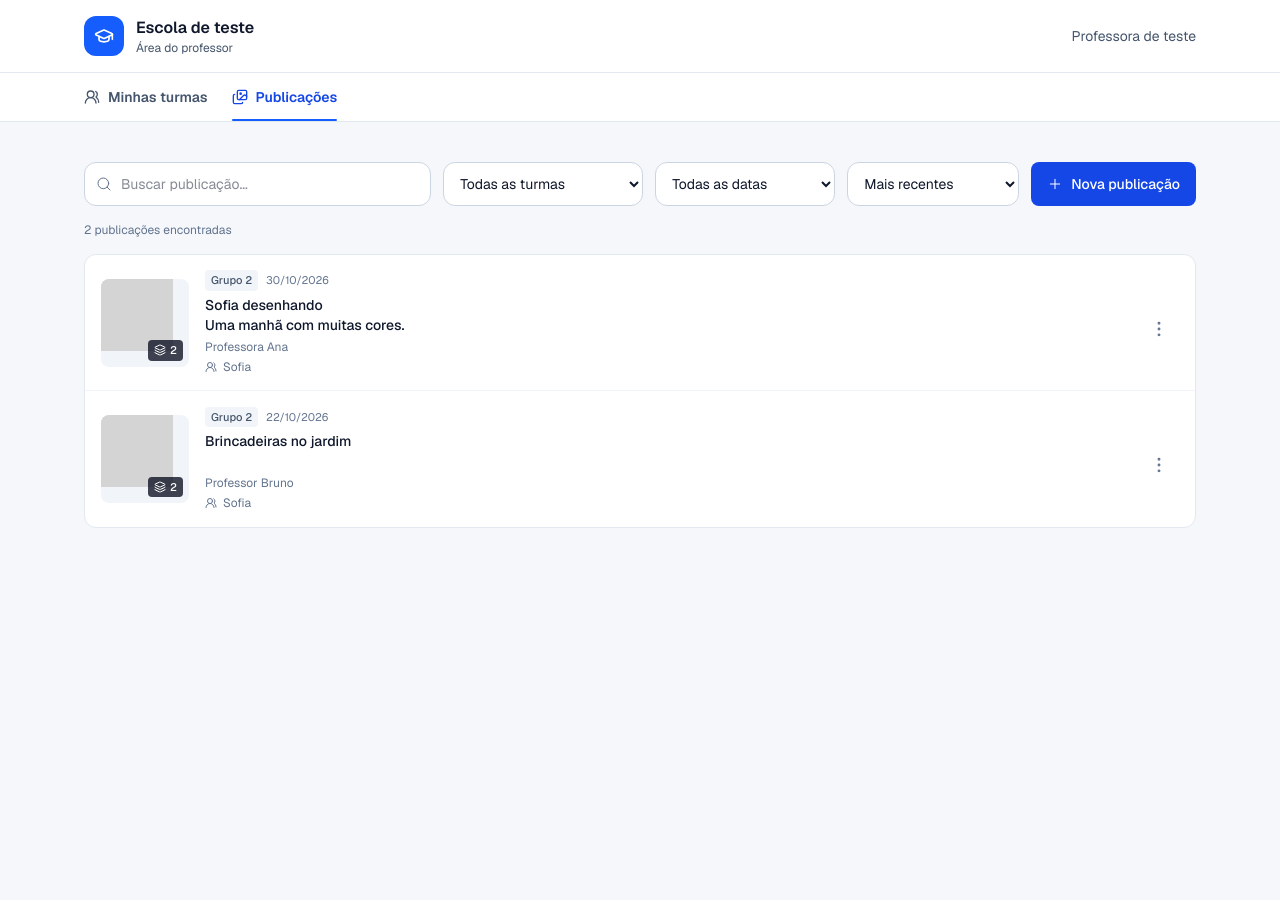
Scenario: workspace integrated with existing API contracts › keeps filters and sort after closing details, and opens the menu without fetching details
In the search field: (258, 184) top-left (84, 162), bottom-right (431, 206), type "Sofia"
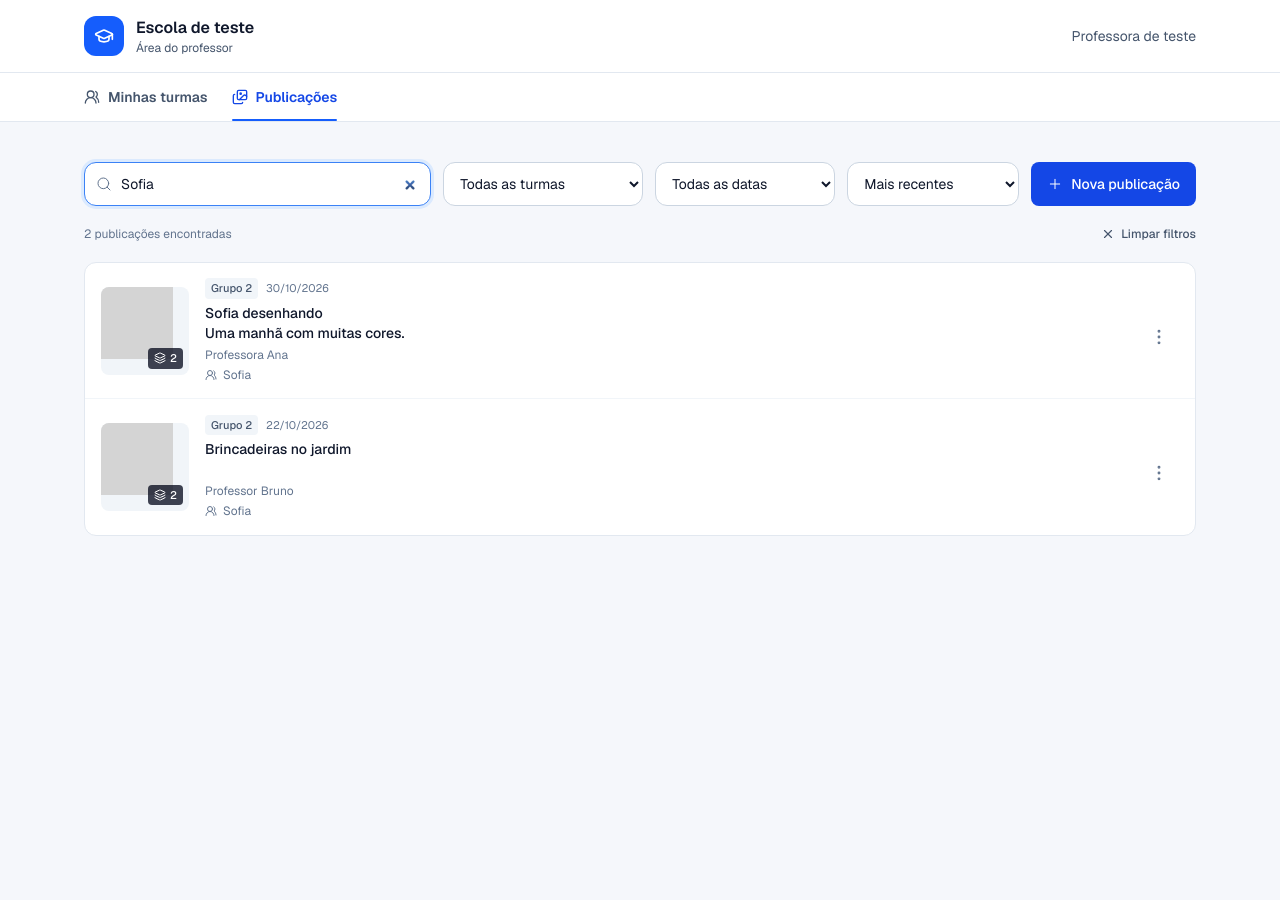
Select "Mais antigas" in the dropdown named "Ordenar publicações": (933, 184) top-left (847, 162), bottom-right (1019, 206)
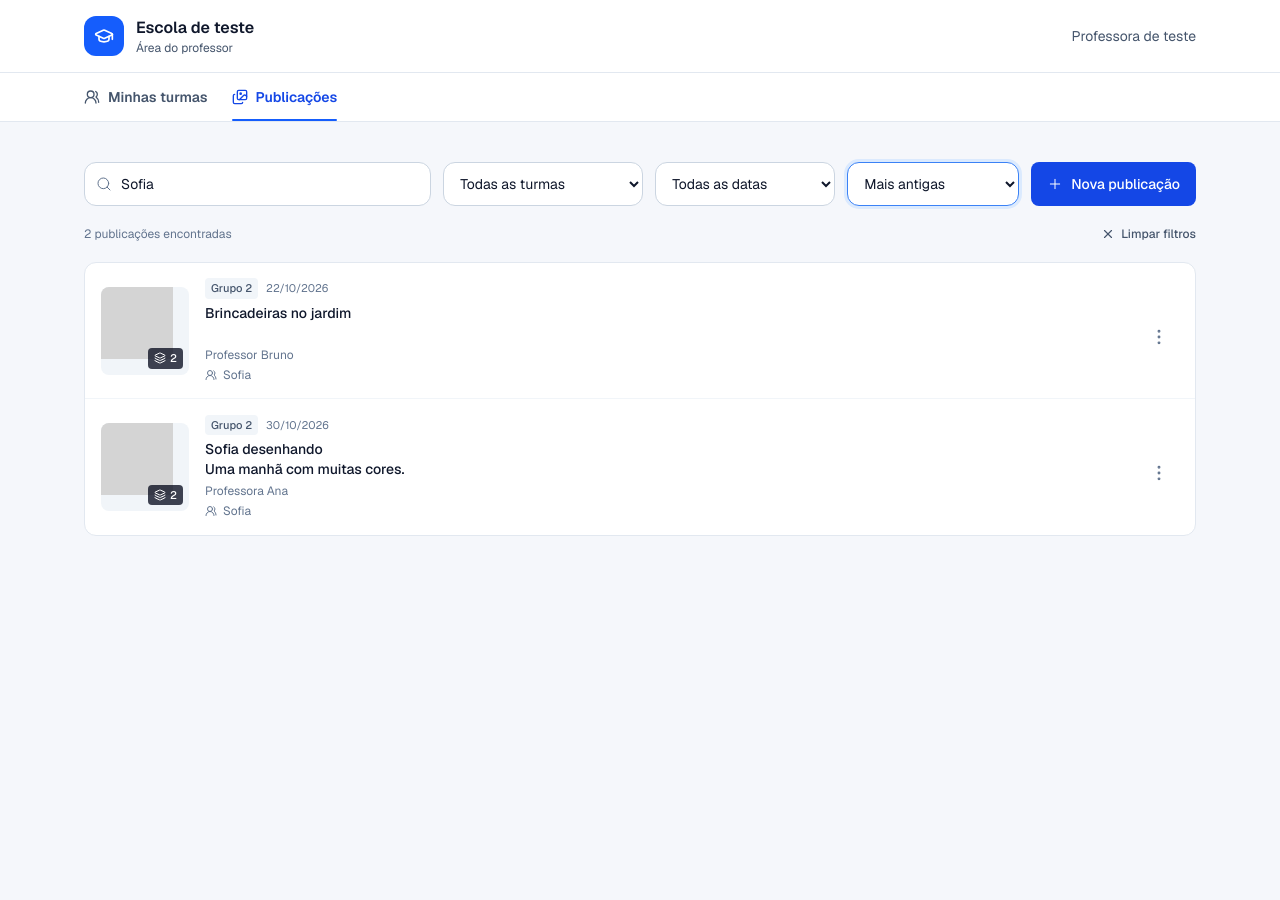
Click the button named "Ações da publicação: Sofia": (1159, 473) top-left (1139, 453), bottom-right (1179, 493)
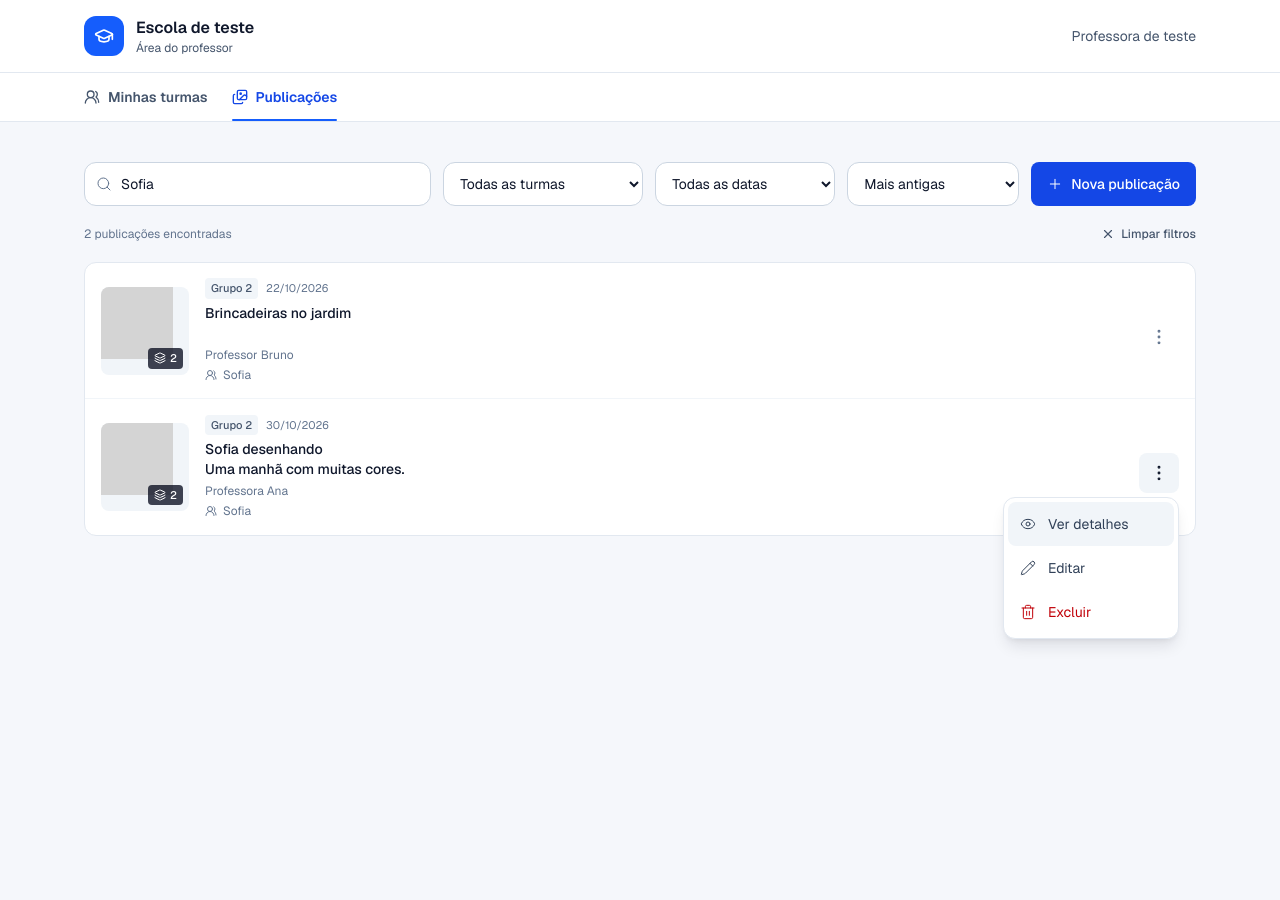
Press Escape
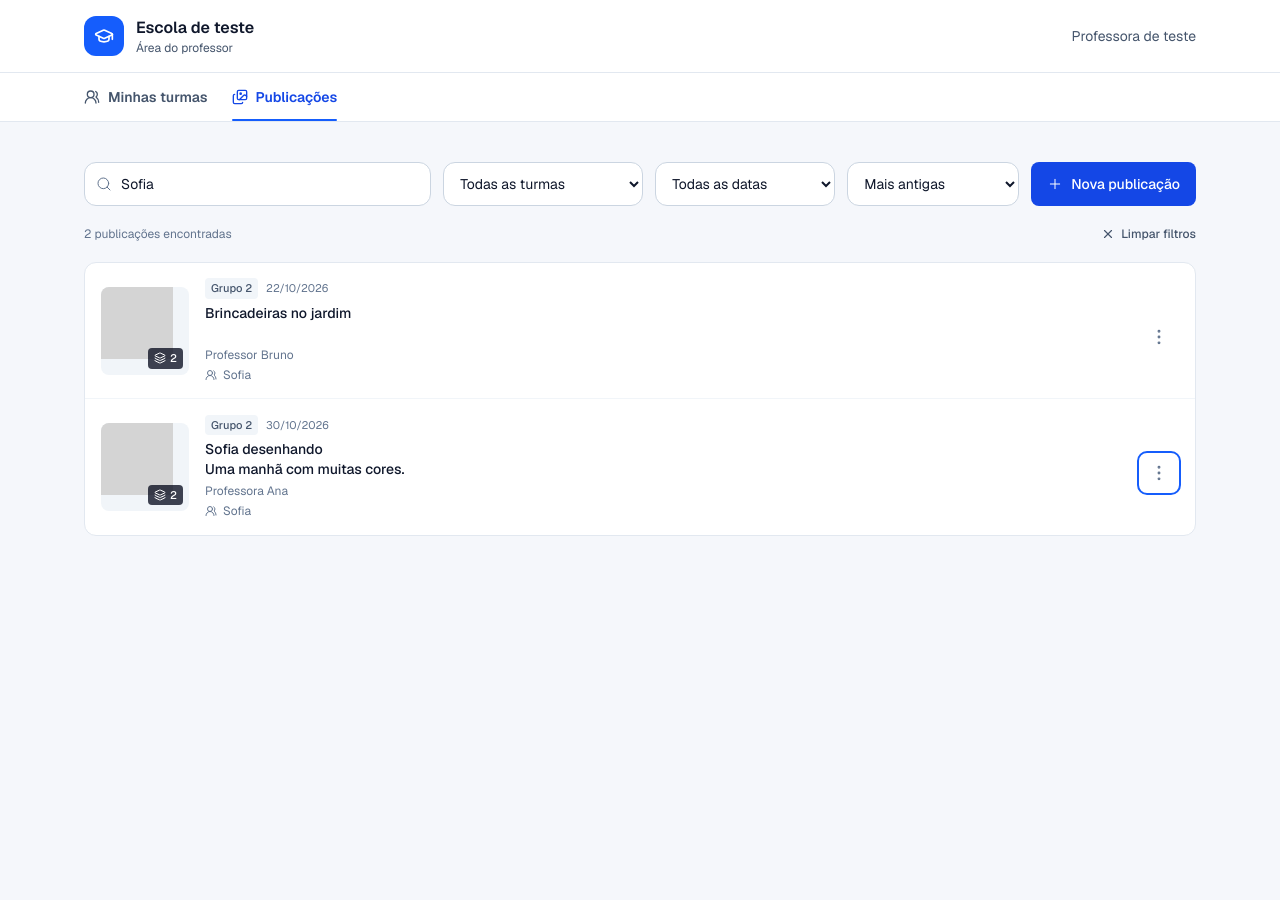
Click the button named "Ver publicação: Sofia desenhando Uma manhã com muitas cores.": (640, 467) top-left (85, 399), bottom-right (1195, 535)
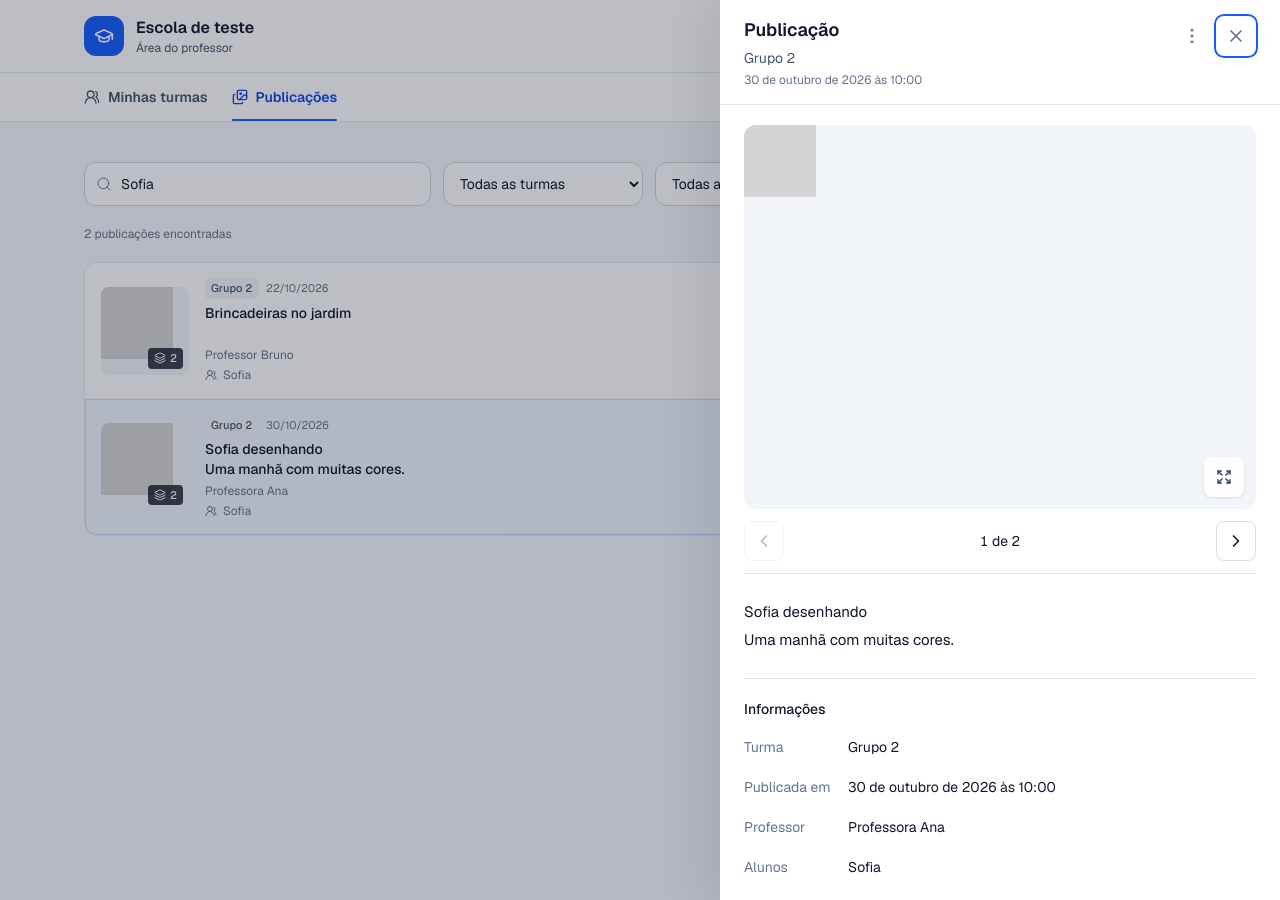
Check: the element named "Legenda completa" is shown, box top-left (744, 573), bottom-right (1256, 678)
Click the button named "Fechar publicação": (1236, 36) top-left (1216, 16), bottom-right (1256, 56)
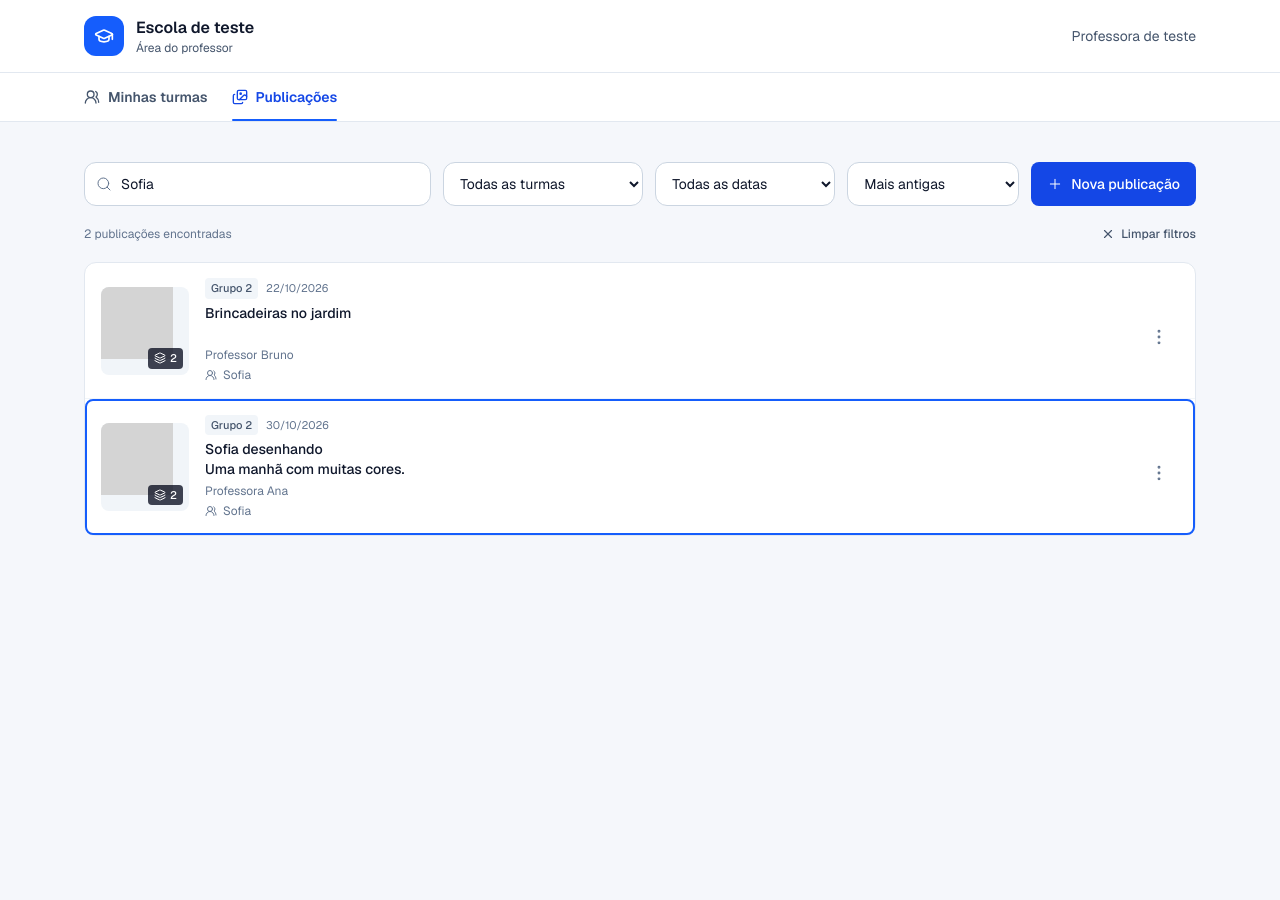
Check: the dialog is gone
